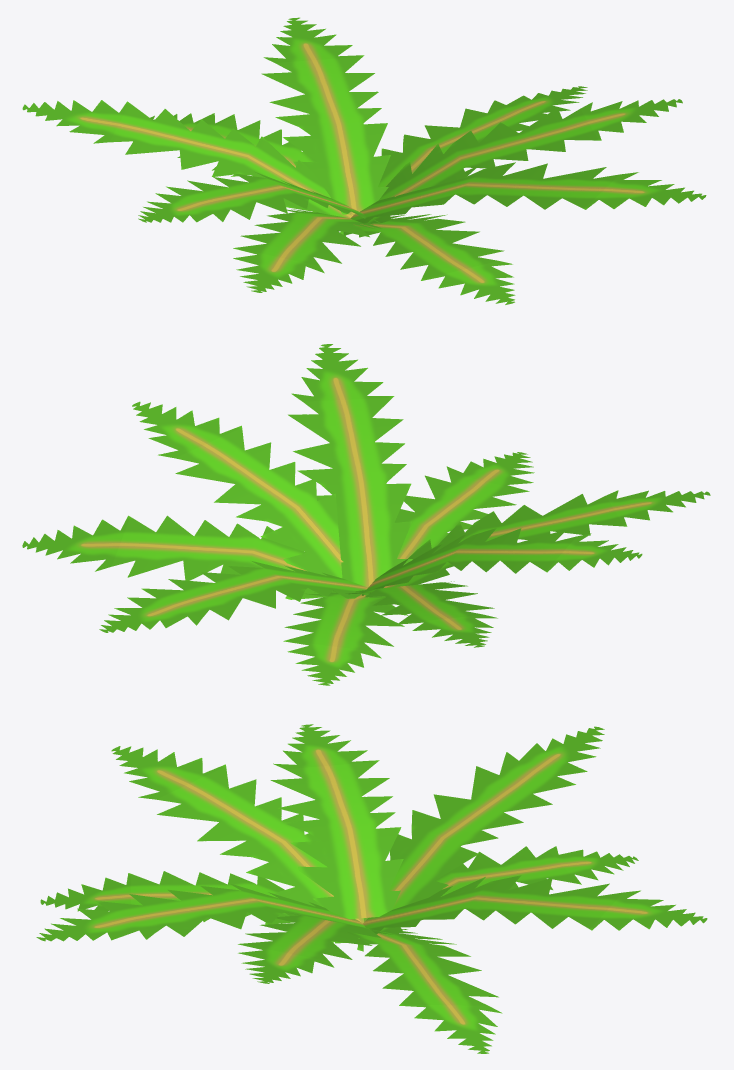
Rendered from Fern_CR.fbx.
3 renders of one model, top to bottom at view 1: azimuth 30°, elevation 25°; view 2: azimuth 150°, elevation 25°; view 3: azimuth 270°, elevation 25°, orthographic. The views are drawn at different scales.
Parts seen in each view (by area): view 1: Fern; view 2: Fern; view 3: Fern.
Boxes of the visible parts, bbox=[...] form: Fern: bbox=[22, 17, 706, 304]; Fern: bbox=[22, 344, 710, 685]; Fern: bbox=[36, 724, 707, 1053].
Size of the model in its own units: 5.36 by 0.8776 by 5.7.
1 material, 1 textured.
